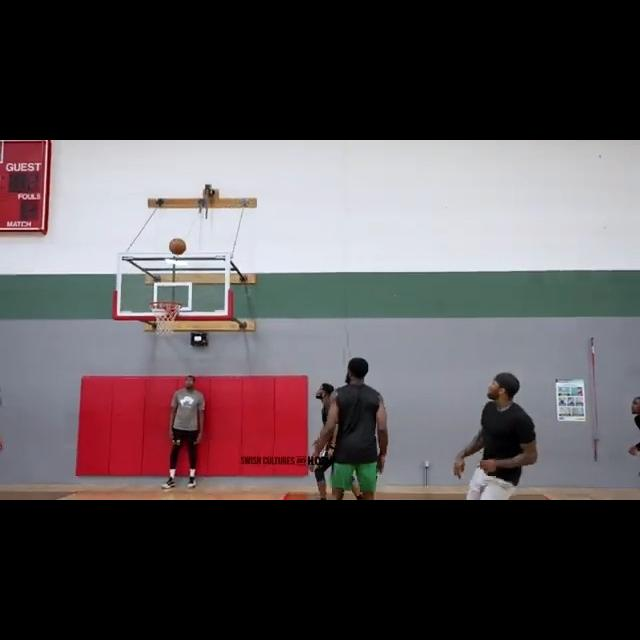basketball: (168, 237, 187, 255)
hoop: (148, 302, 181, 337)
